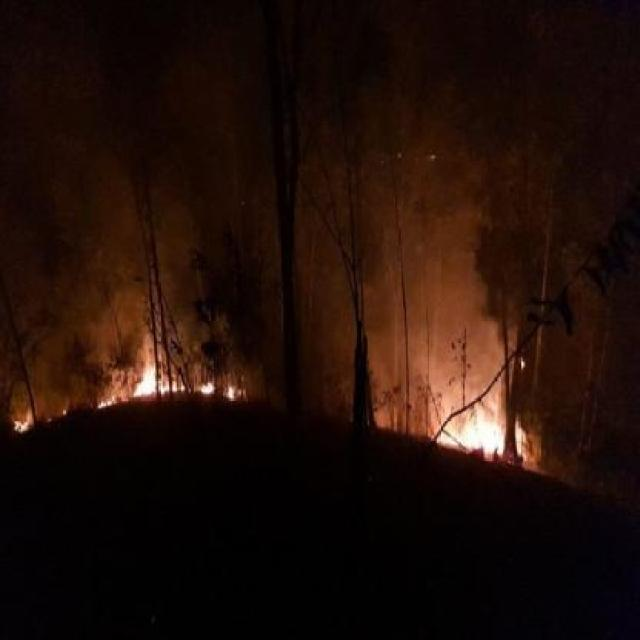Fire: (431, 400, 504, 460), (134, 353, 186, 395), (13, 415, 30, 433), (98, 393, 118, 407), (200, 379, 216, 396), (226, 386, 237, 400)
